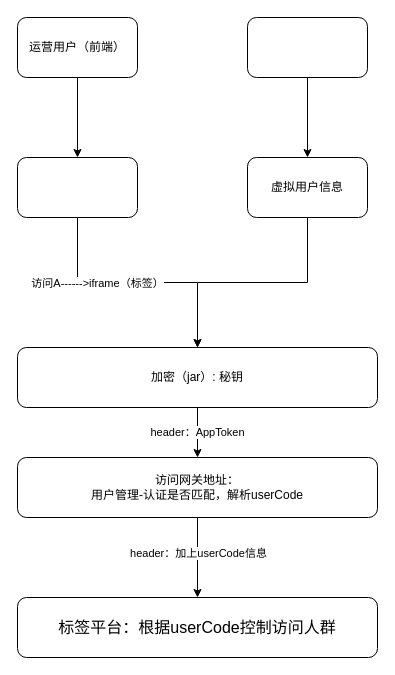
Some shapes in this 395 by 675 pixel diagram are drawn without their labels. The shapes that lost their labels are listed below. From the top down, each one's centre as x and y in pixels, then its label:
(307,47): 系统访问
(77,187): 运营平台A页面
